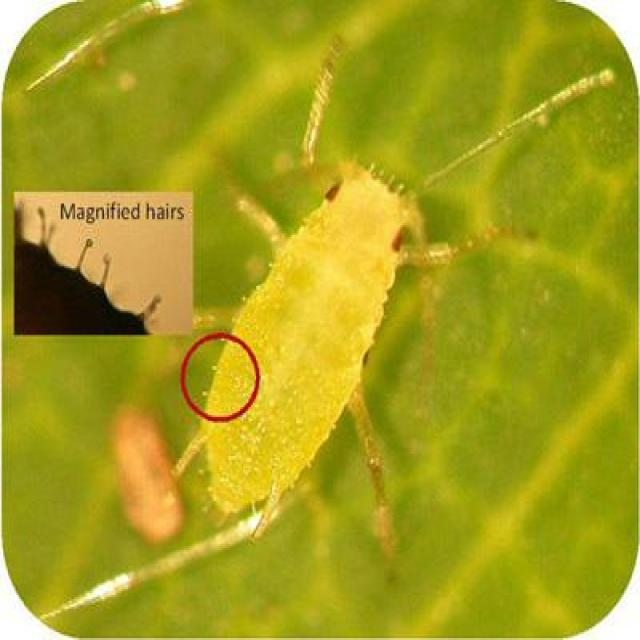Aphids: (137, 93, 555, 592)
